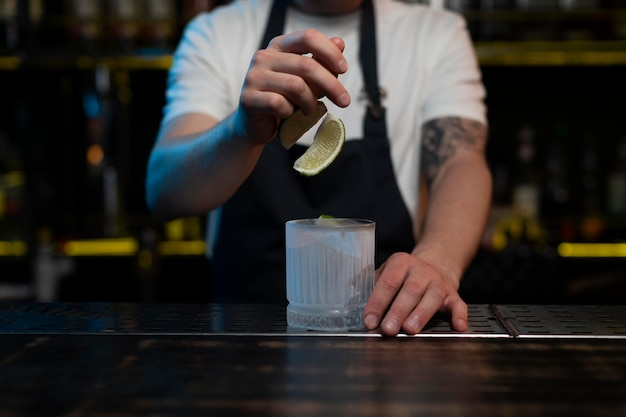alcohol: (285, 218, 377, 333)
